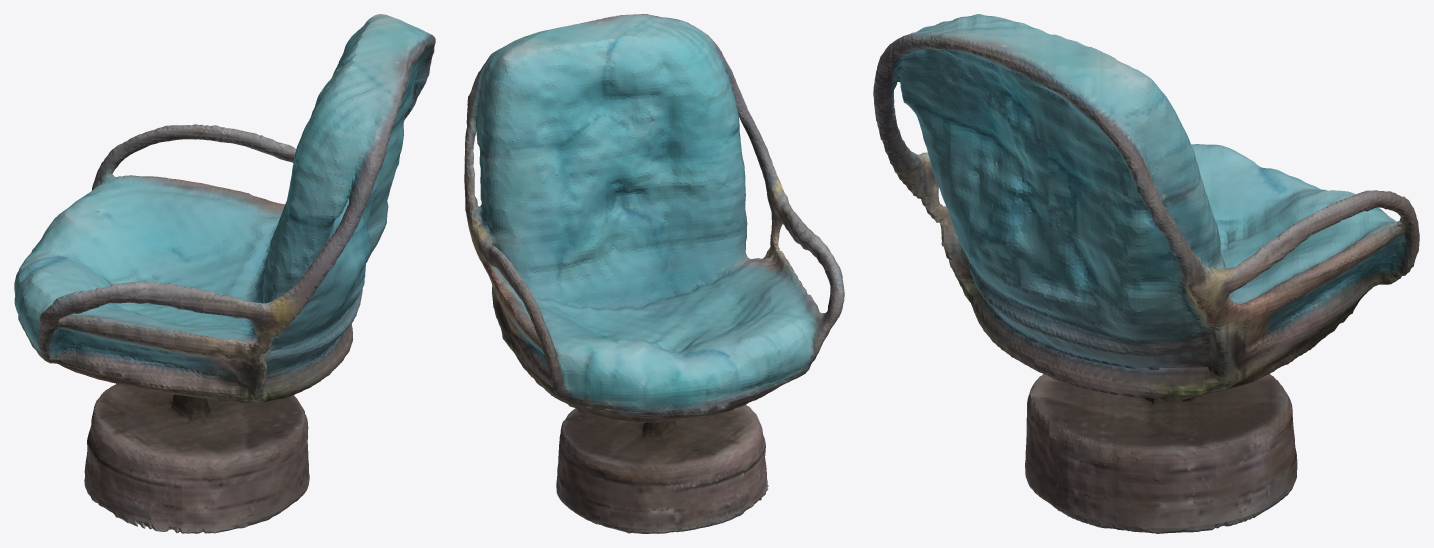
File: full.glb
3 views of the same model, side by side, from view 1: azimuth 30°, elevation 25°; view 2: azimuth 150°, elevation 25°; view 3: azimuth 270°, elevation 25° (orthographic). The views are drawn at different scales.
Visible parts, largest first — view 1: world; view 2: world; view 3: world.
Boxes of the visible parts, left/top/right/bottom form: world: left=14, top=14, right=435, bottom=533; world: left=464, top=14, right=844, bottom=533; world: left=873, top=14, right=1419, bottom=533.
Size of the model in its own units: 1.89 by 2 by 1.92.
